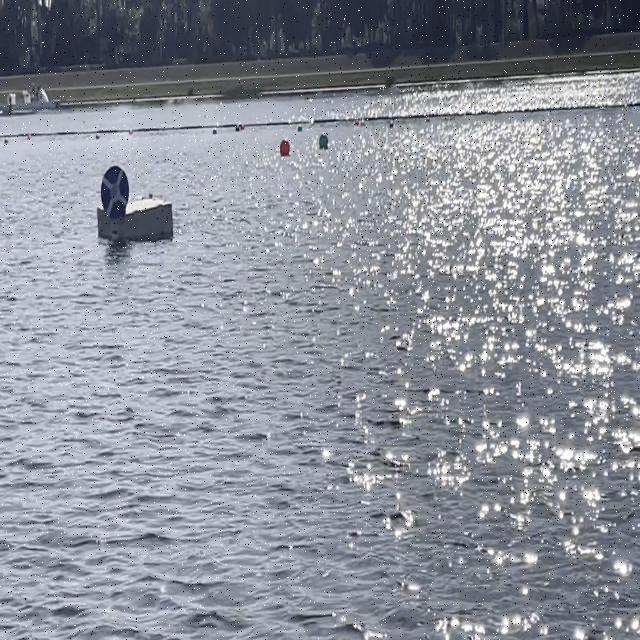buoy: (276, 131, 296, 167), (316, 132, 334, 156)
